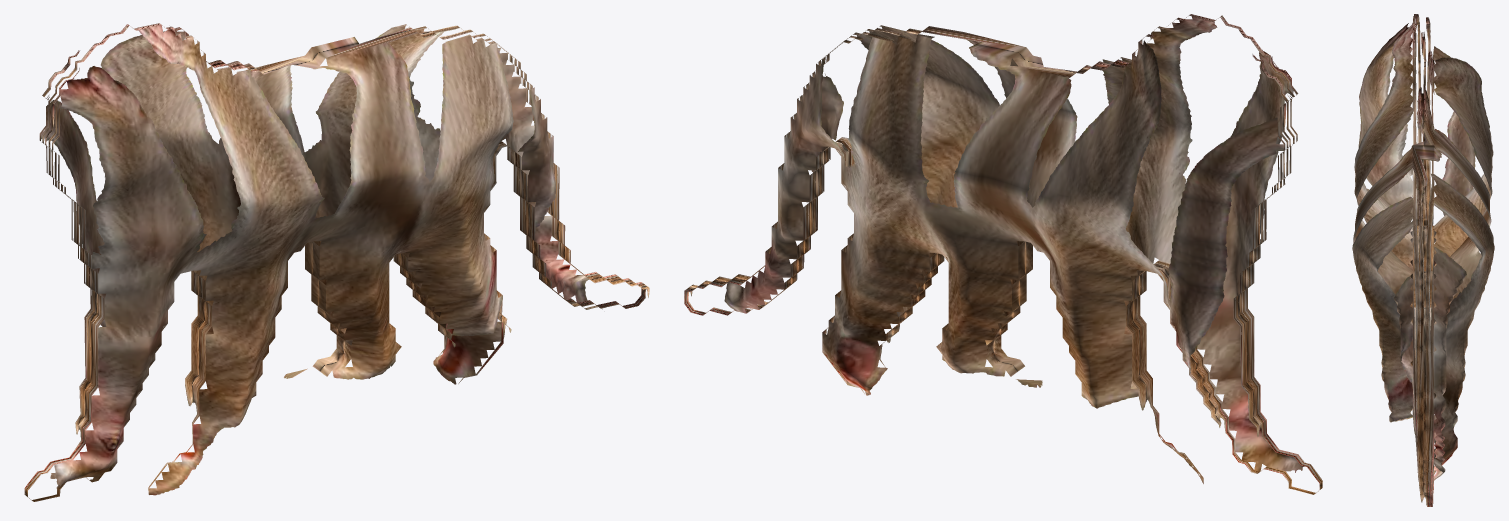
Rendered from nhp.glb.
3 views of the same model, side by side, from view 1: azimuth 30°, elevation 25°; view 2: azimuth 150°, elevation 25°; view 3: azimuth 270°, elevation 25° (orthographic). The views are drawn at different scales.
Parts seen in each view (by area): view 1: reconstruction_artistique_non_anatomique_nhp; view 2: reconstruction_artistique_non_anatomique_nhp; view 3: reconstruction_artistique_non_anatomique_nhp.
Part boxes in pixels (left/top/right/bottom): reconstruction_artistique_non_anatomique_nhp: left=24, top=23, right=649, bottom=501; reconstruction_artistique_non_anatomique_nhp: left=684, top=14, right=1322, bottom=494; reconstruction_artistique_non_anatomique_nhp: left=1352, top=14, right=1494, bottom=506.
Size of the model in its own units: 3.81 by 2.84 by 1.02.
Materials: 1 (1 with a texture image).
